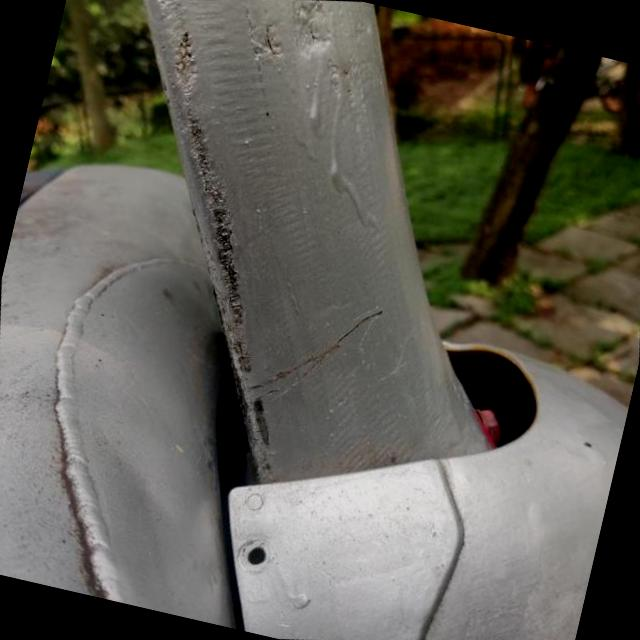Missing Fastener: (230, 536, 274, 576)
